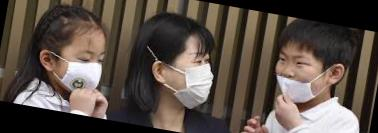mask_weared_incorrect: (272, 49, 328, 100)
with_mask: (172, 50, 220, 111), (62, 43, 112, 95)
